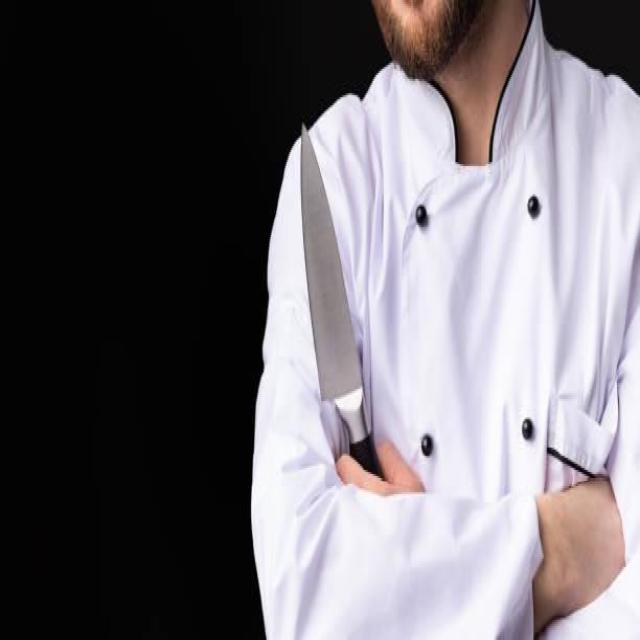faca: (288, 89, 437, 551)
